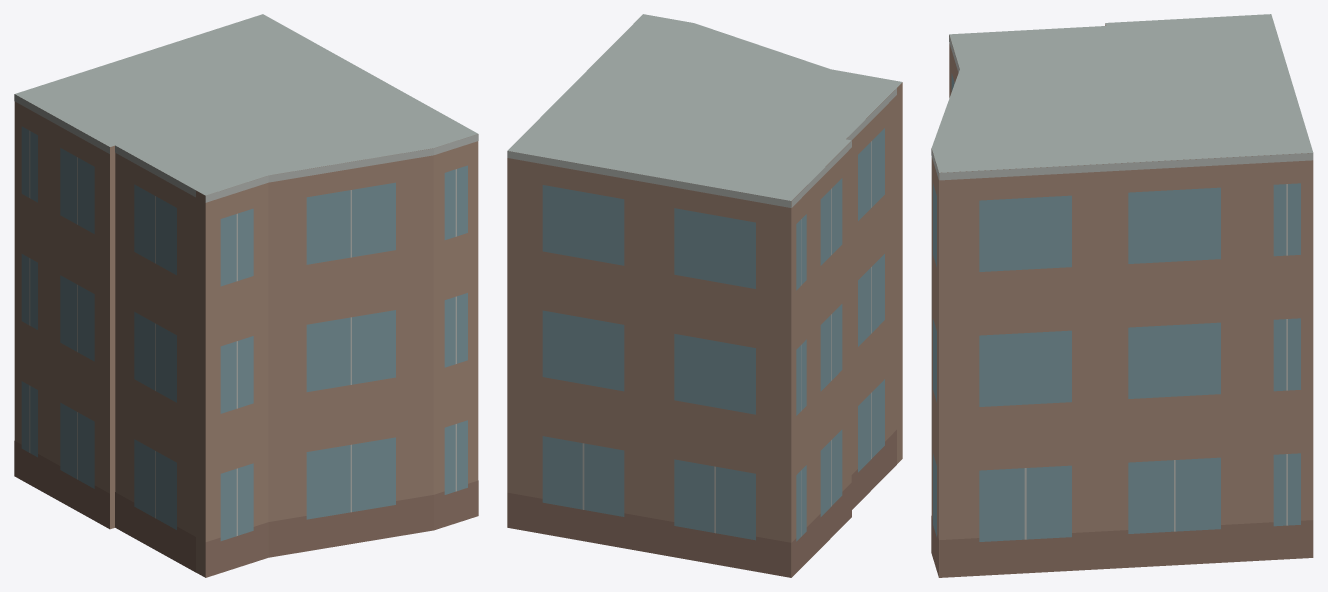
The model's file is survey-upis-32738561.glb.
3 renders of one model, left to right at view 1: azimuth 30°, elevation 25°; view 2: azimuth 150°, elevation 25°; view 3: azimuth 270°, elevation 25°, orthographic. The views are drawn at different scales.
Parts seen in each view (by area): view 1: survey-upis-32738561.tmp; view 2: survey-upis-32738561.tmp; view 3: survey-upis-32738561.tmp.
Boxes of the visible parts, x1=… form: survey-upis-32738561.tmp: x1=14, y1=14, x2=478, y2=577; survey-upis-32738561.tmp: x1=507, y1=14, x2=902, y2=577; survey-upis-32738561.tmp: x1=931, y1=14, x2=1313, y2=577.
Bounding box in the file's own units: 10.95 × 13 × 11.12.
